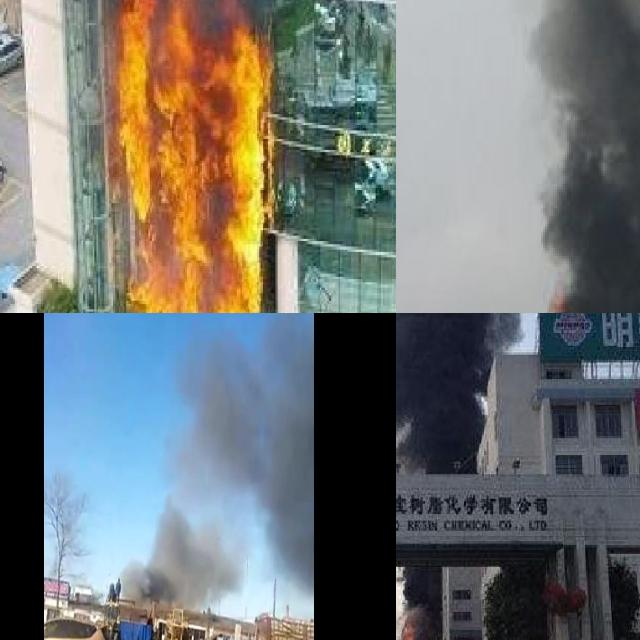fire: (110, 0, 274, 313), (399, 620, 414, 640)
smoke: (120, 313, 313, 601), (538, 0, 640, 313), (396, 313, 533, 474), (401, 560, 440, 636)
